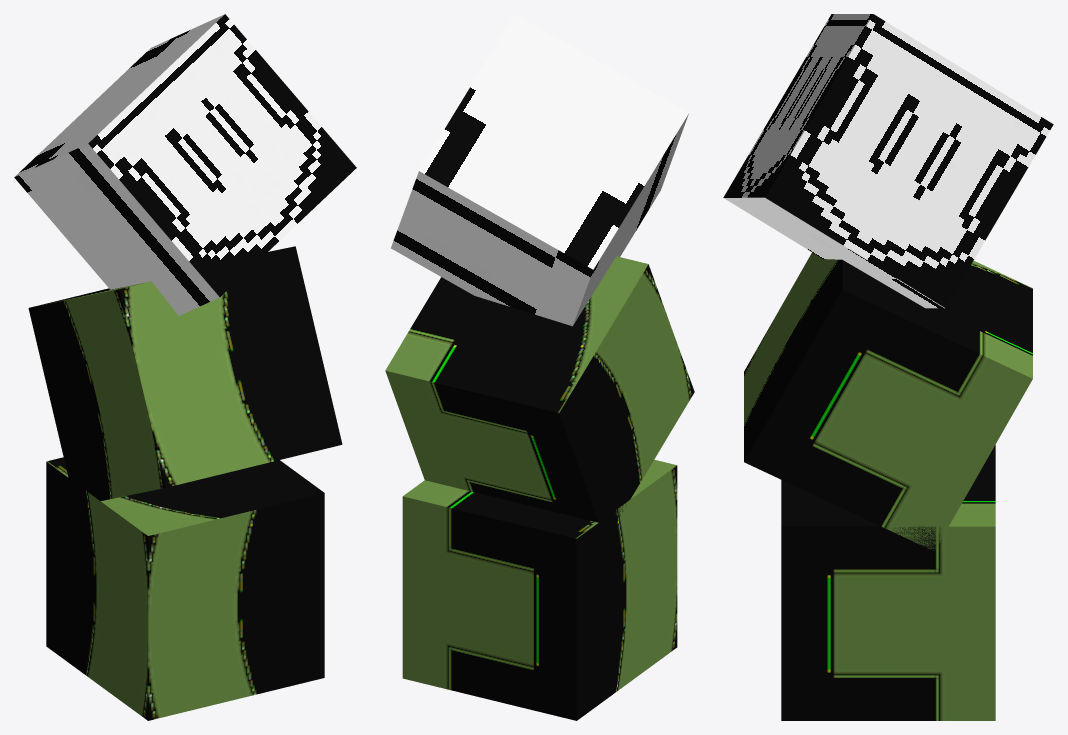
The model's file is simglob.glb.
3 views of the same model, side by side, from view 1: azimuth 30°, elevation 25°; view 2: azimuth 150°, elevation 25°; view 3: azimuth 270°, elevation 25° (orthographic). The views are drawn at different scales.
Visible parts, largest first — view 1: Cube, Cube.002, Cube.001; view 2: Cube.001, Cube.002, Cube; view 3: Cube.001, Cube.002, Cube.
Part boxes in pixels (left/top/right/bottom): Cube: left=46, top=457, right=324, bottom=720; Cube.002: left=14, top=14, right=356, bottom=315; Cube.001: left=28, top=246, right=342, bottom=501; Cube.001: left=385, top=256, right=694, bottom=540; Cube.002: left=391, top=14, right=688, bottom=326; Cube: left=402, top=459, right=677, bottom=720; Cube.001: left=744, top=252, right=1032, bottom=550; Cube.002: left=723, top=14, right=1053, bottom=308; Cube: left=781, top=445, right=995, bottom=720.
Size of the model in its own units: 2.82 by 6.98 by 3.08.
2 materials, 2 textured.
